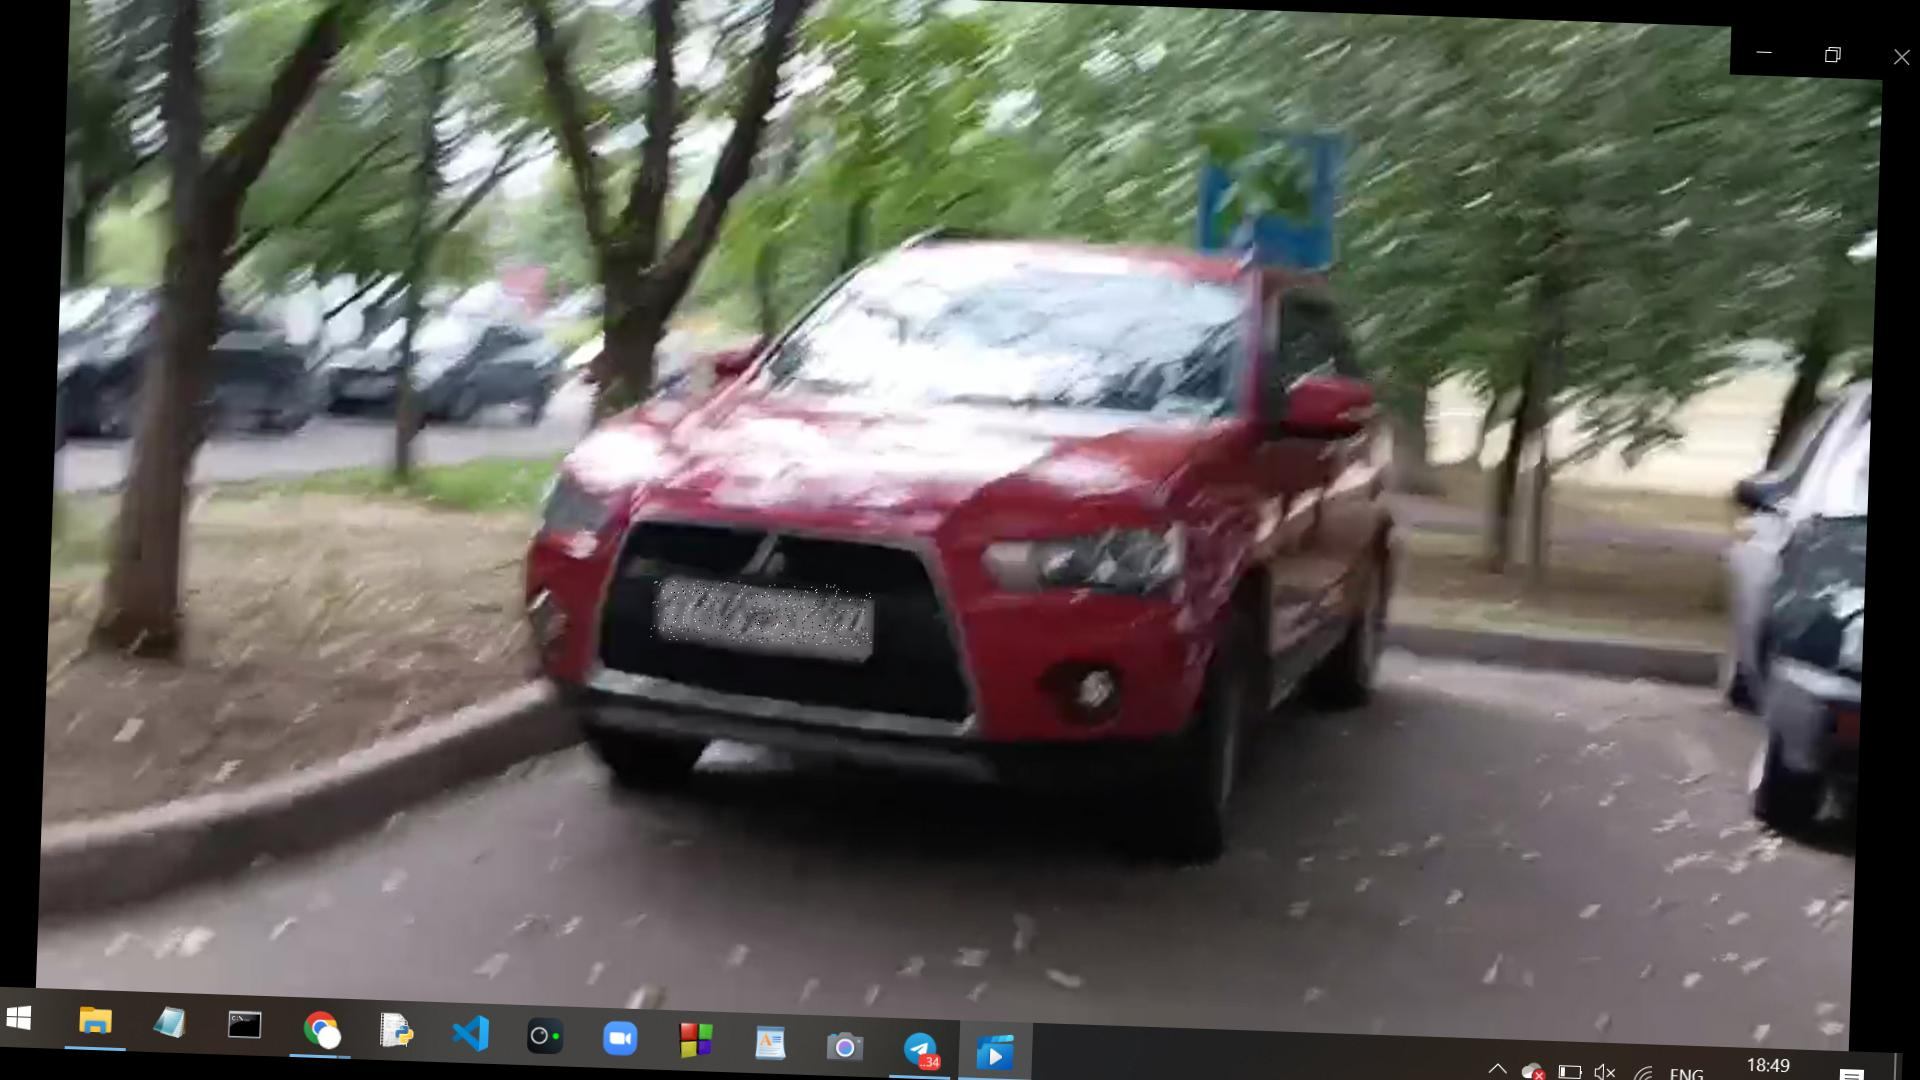plate: (652, 580, 875, 649)
